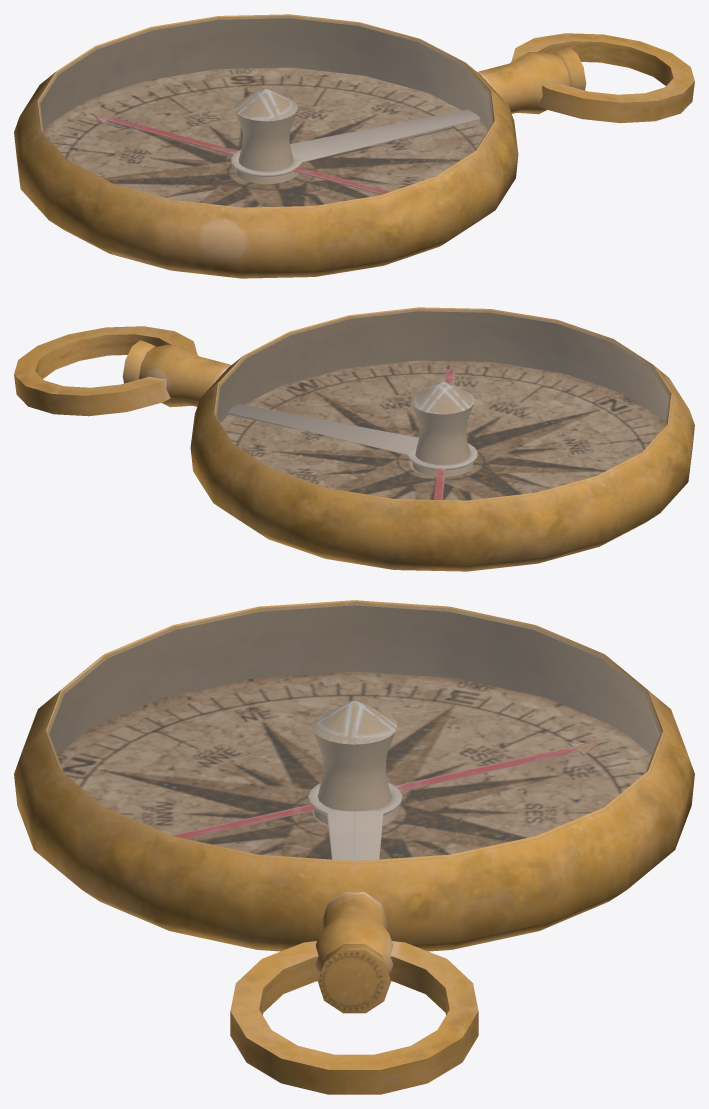
The model's file is Puzzle 1 Compass.fbx.
3 renders of one model, top to bottom at view 1: azimuth 30°, elevation 25°; view 2: azimuth 150°, elevation 25°; view 3: azimuth 270°, elevation 25°, orthographic. The views are drawn at different scales.
Parts seen in each view (by area): view 1: Puzzle 1 Compass, Puzzle 1 Compass Glass, Puzzle 1 Compass Needle, Puzzle 1 Compass Needle2; view 2: Puzzle 1 Compass, Puzzle 1 Compass Glass, Puzzle 1 Compass Needle, Puzzle 1 Compass Needle2; view 3: Puzzle 1 Compass, Puzzle 1 Compass Glass, Puzzle 1 Compass Needle, Puzzle 1 Compass Needle2.
Part boxes in pixels (bbox=[...]): Puzzle 1 Compass: bbox=[14, 14, 694, 278]; Puzzle 1 Compass Glass: bbox=[35, 15, 496, 209]; Puzzle 1 Compass Needle: bbox=[230, 109, 480, 176]; Puzzle 1 Compass Needle2: bbox=[94, 114, 389, 194]; Puzzle 1 Compass: bbox=[14, 307, 694, 571]; Puzzle 1 Compass Glass: bbox=[212, 308, 673, 502]; Puzzle 1 Compass Needle: bbox=[227, 404, 477, 470]; Puzzle 1 Compass Needle2: bbox=[434, 369, 455, 499]; Puzzle 1 Compass: bbox=[14, 600, 694, 1094]; Puzzle 1 Compass Glass: bbox=[43, 602, 665, 864]; Puzzle 1 Compass Needle: bbox=[307, 783, 402, 860]; Puzzle 1 Compass Needle2: bbox=[172, 742, 597, 838].
Bounding box in the file's own units: 56.46 × 9.23 × 39.08.
